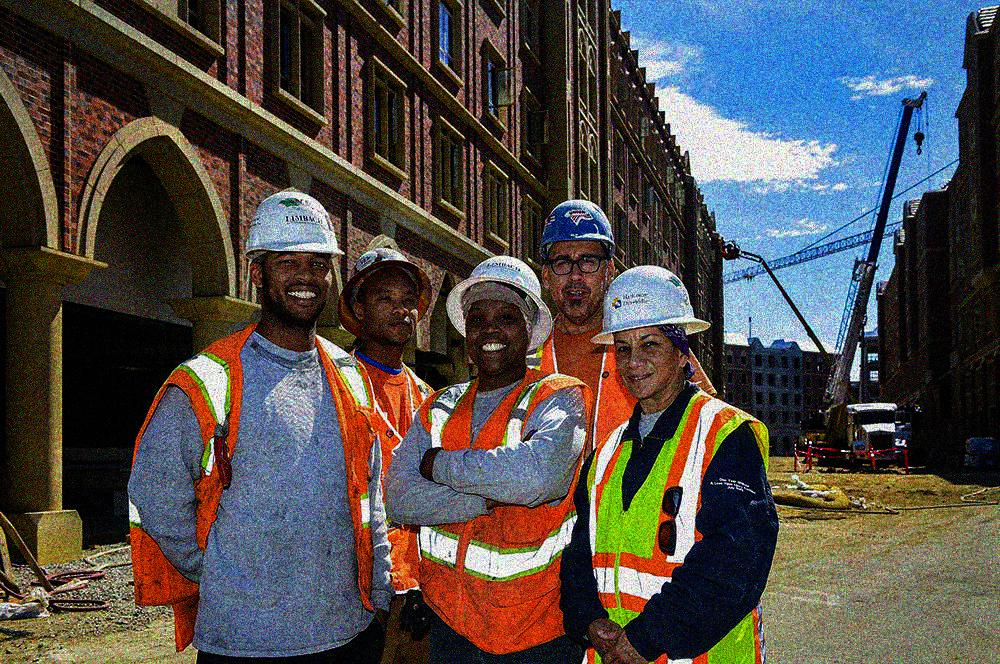helmet: (587, 264, 711, 396), (442, 254, 555, 378), (242, 186, 342, 317), (536, 197, 618, 323), (338, 244, 434, 343)
